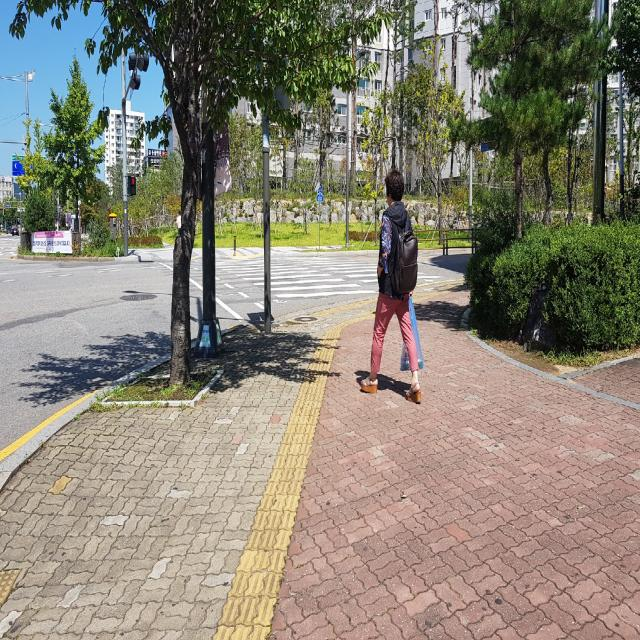빨간불: (128, 171, 138, 199)
횡단보도: (216, 254, 444, 300)
